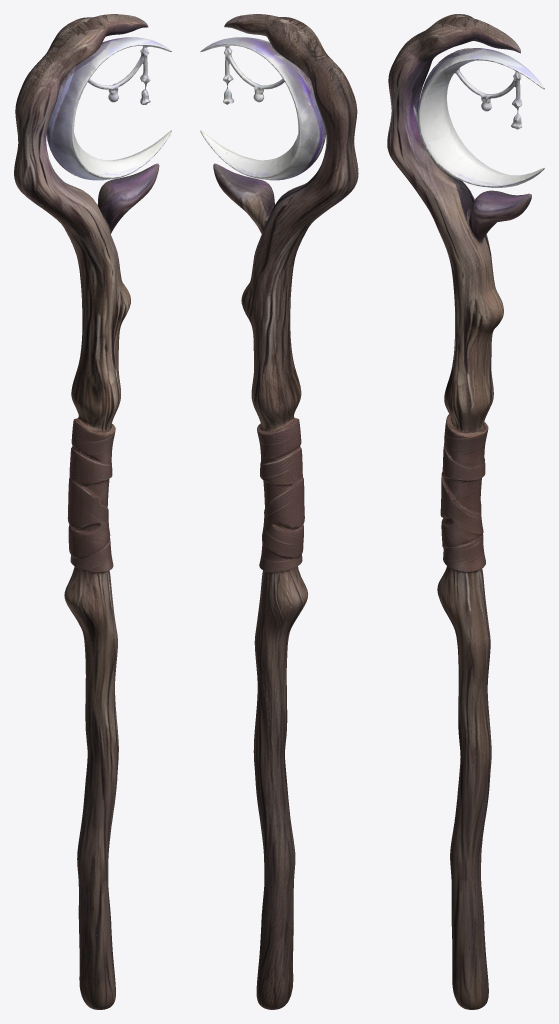
The model's file is hf_staff.glb.
3 renders of one model, left to right at view 1: azimuth 30°, elevation 25°; view 2: azimuth 150°, elevation 25°; view 3: azimuth 330°, elevation 25°, orthographic.
Bounding box in the file's own units: 0.3119 × 1.9 × 0.0974.
Materials: 1 (1 with a texture image).
